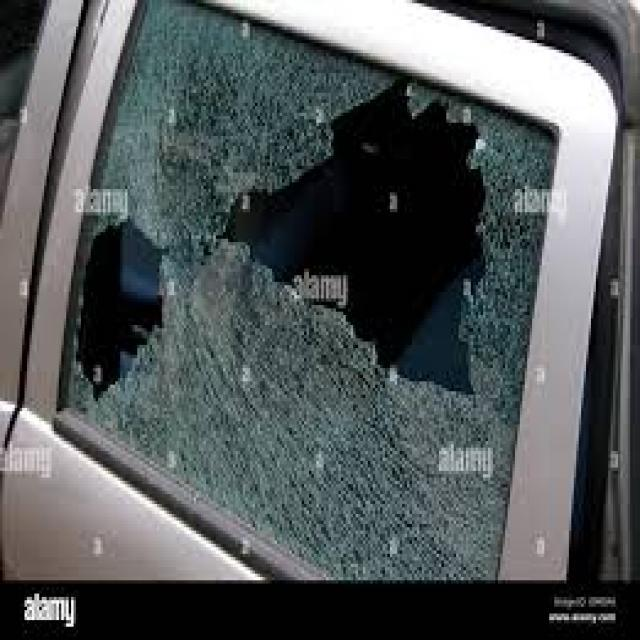damaged-window: (66, 0, 561, 580)
